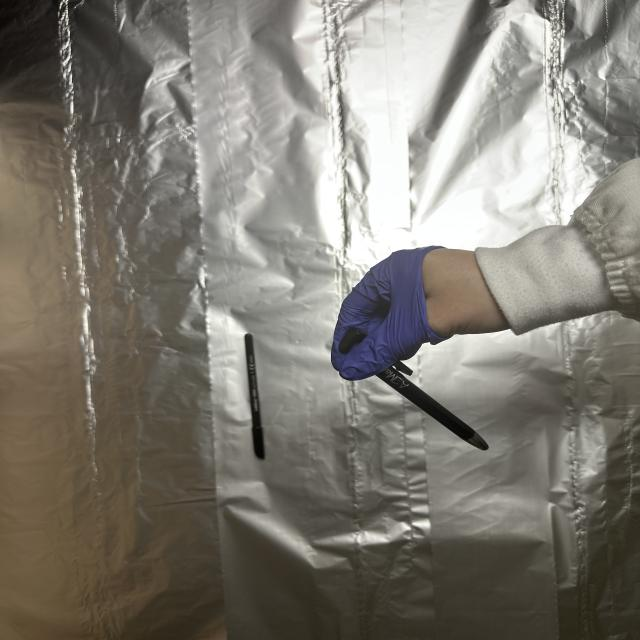glove_partial: (330, 242, 516, 382)
